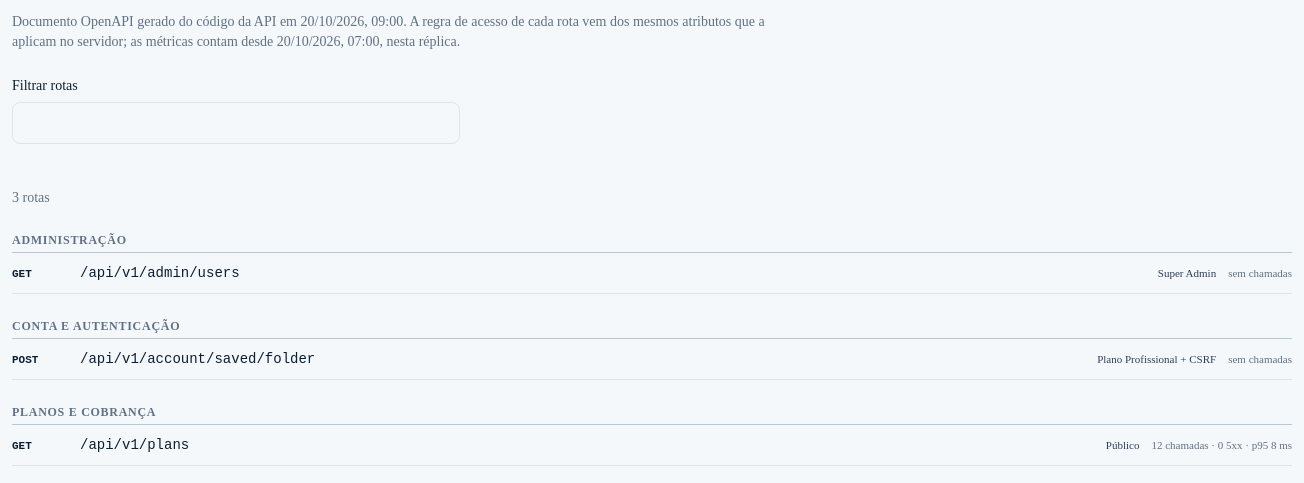
Test: catálogo da API no admin › agrupa por área, mostra a regra de acesso do servidor e as métricas; só GET público executa
Expected: the heading "Administração" is shown, [12,232,1292,253]
Expected: the text "3 rotas" is shown, [12,190,50,205]
Type "folder" into the search field labelled "Filtrar rotas" at x=236, y=123, box [12,102,460,144]
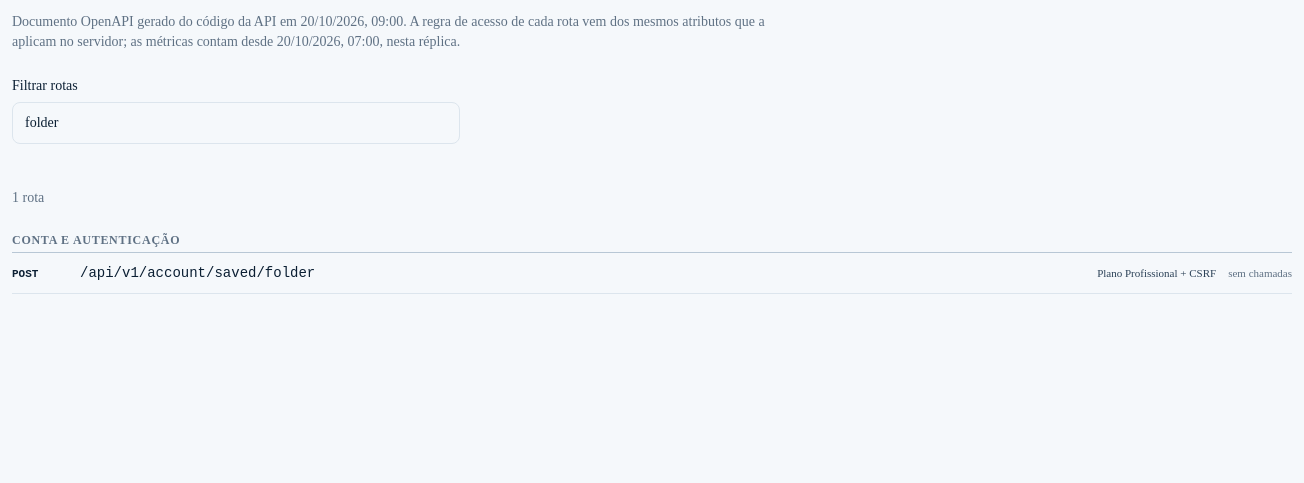
Now the text "1 rota" is shown, box [12,190,44,205]
